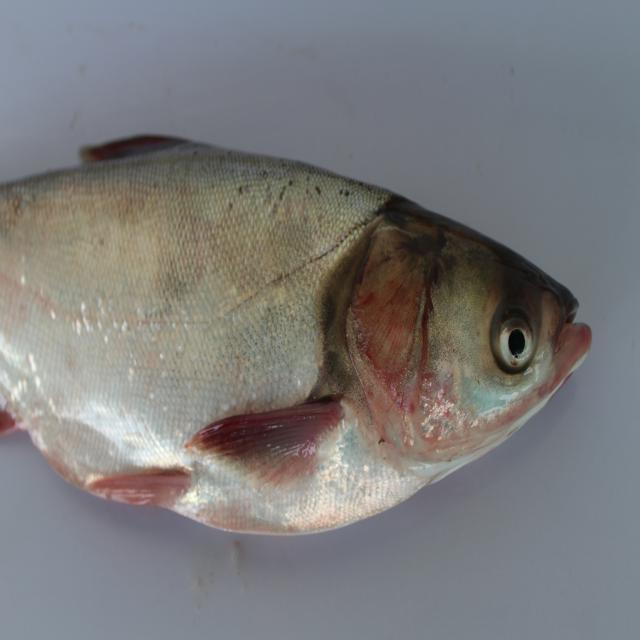SilverCarp: (1, 139, 621, 568)
